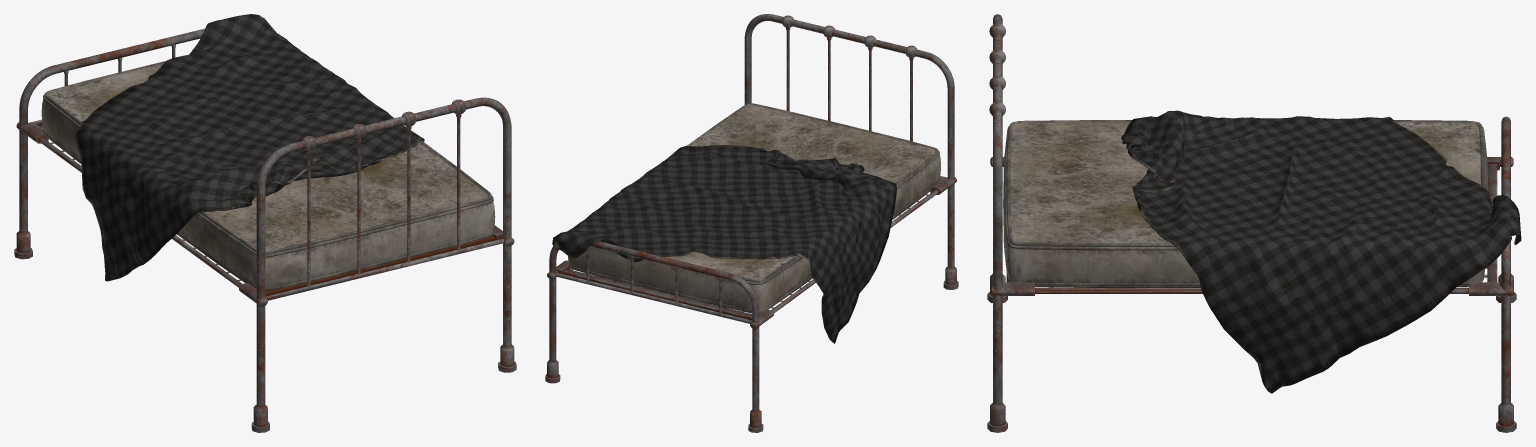
File: hospital_bed.glb
3 renders of one model, left to right at view 1: azimuth 30°, elevation 25°; view 2: azimuth 150°, elevation 25°; view 3: azimuth 270°, elevation 25°, orthographic. The views are drawn at different scales.
Visible parts, largest first — view 1: blanket_blanket_0, mattress_mattress_0, bed_bed_0; view 2: blanket_blanket_0, mattress_mattress_0, bed_bed_0; view 3: blanket_blanket_0, mattress_mattress_0, bed_bed_0.
Part boxes in pixels (x1,y1,x2,y2): blanket_blanket_0: (75, 14, 424, 281); mattress_mattress_0: (41, 61, 495, 291); bed_bed_0: (14, 28, 516, 432); blanket_blanket_0: (552, 145, 897, 343); mattress_mattress_0: (568, 103, 940, 313); bed_bed_0: (545, 14, 958, 432); blanket_blanket_0: (1121, 110, 1521, 393); mattress_mattress_0: (1003, 120, 1487, 287); bed_bed_0: (987, 14, 1516, 432).
Size of the model in its own units: 133 by 130 by 210.
3 materials, 3 textured.
